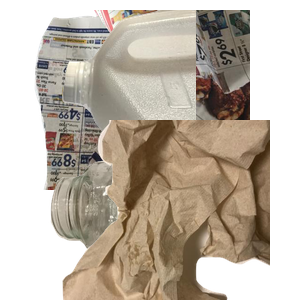glass: (48, 156, 260, 300)
paper: (32, 10, 272, 190)
plastic: (60, 10, 300, 190)
trash: (60, 120, 300, 300)
